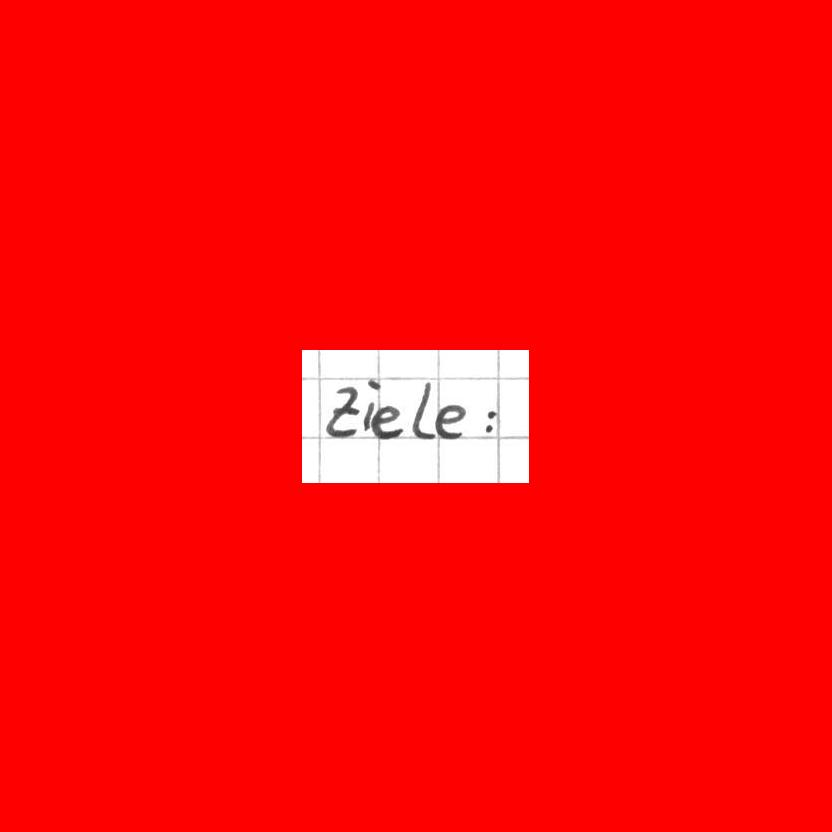Char: (325, 381, 358, 442), (410, 380, 433, 442), (370, 403, 403, 441), (435, 403, 467, 441), (362, 377, 378, 432), (482, 407, 500, 435)
